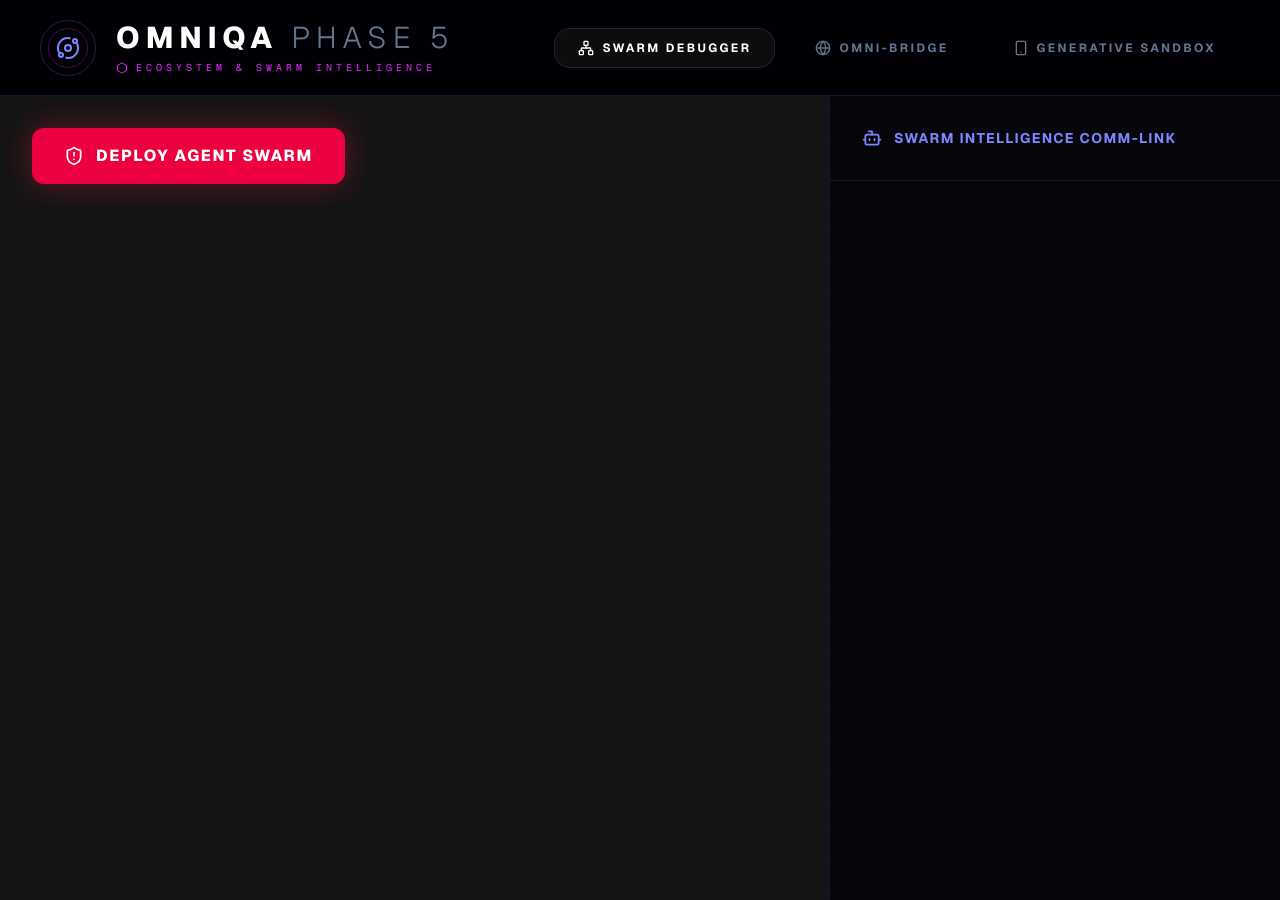
Scenario: OmniQAQuantum Micro-App Suite › should process all swarm events, show intelligence logs, and transition to resolved state with auto-patch
Click the button "Deploy Agent Swarm".
click(188, 156)  # box [32,128,345,184]
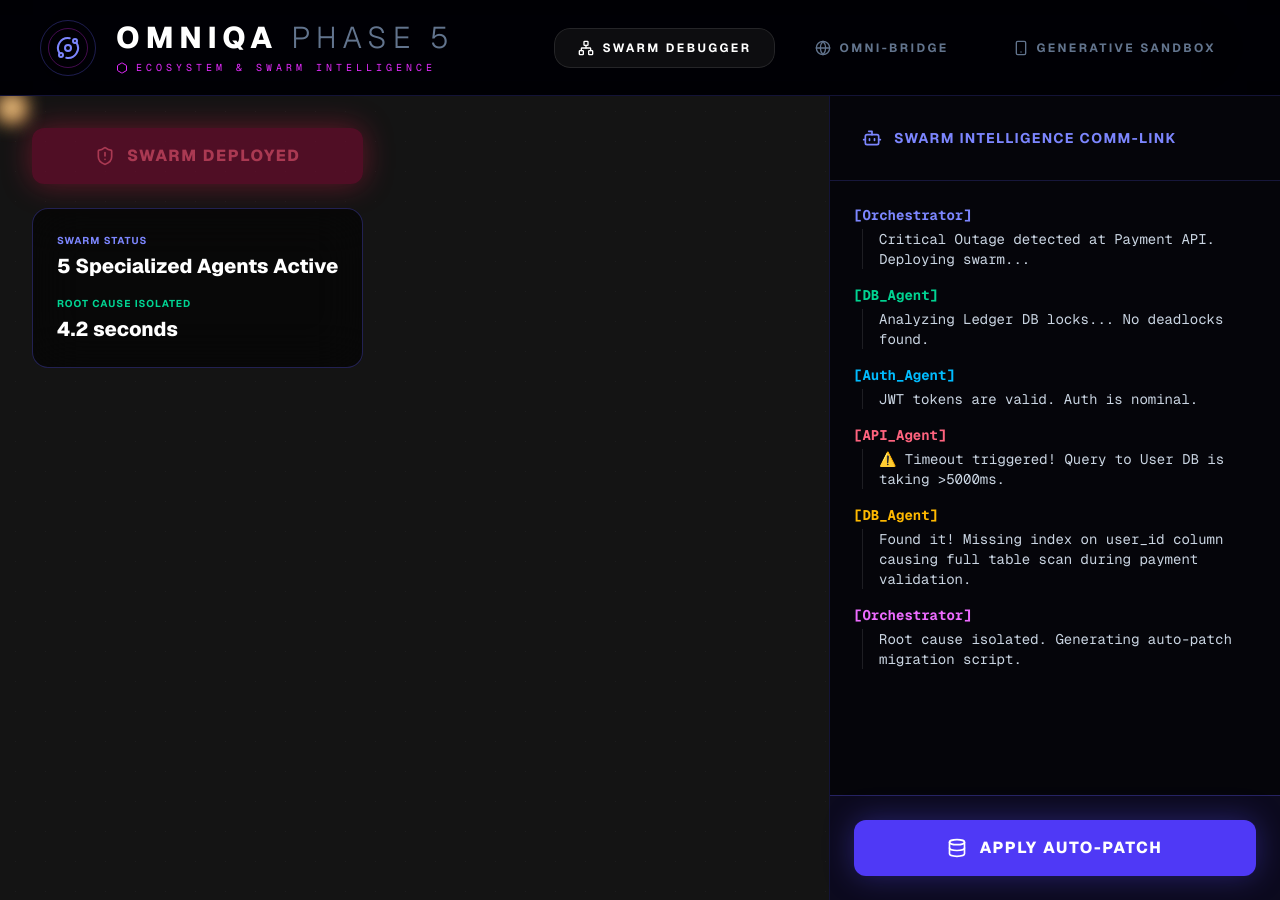
Now the text "Critical Outage detected at Payment API. Deploying swarm..." is shown, box [862,229,1256,269]
Now the text "Analyzing Ledger DB locks... No deadlocks found." is shown, box [862,309,1256,349]
Now the text "Root cause isolated. Generating auto-patch migration script." is shown, box [862,629,1256,669]
